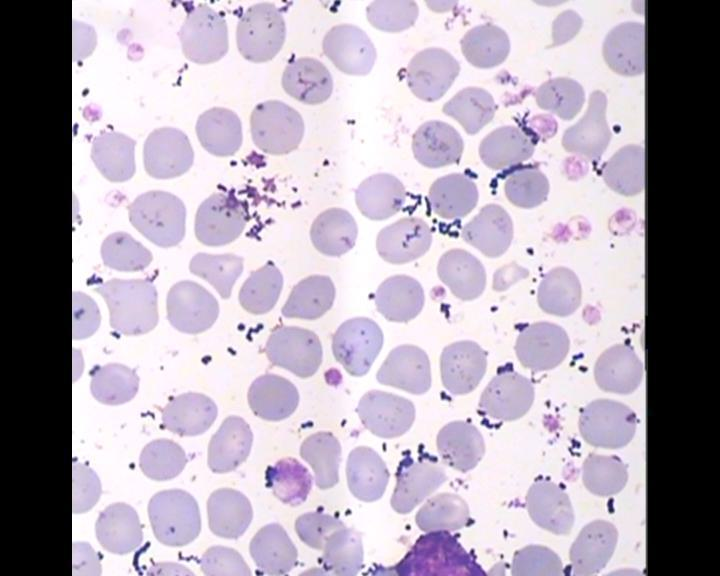baso: (391, 531, 492, 576)
